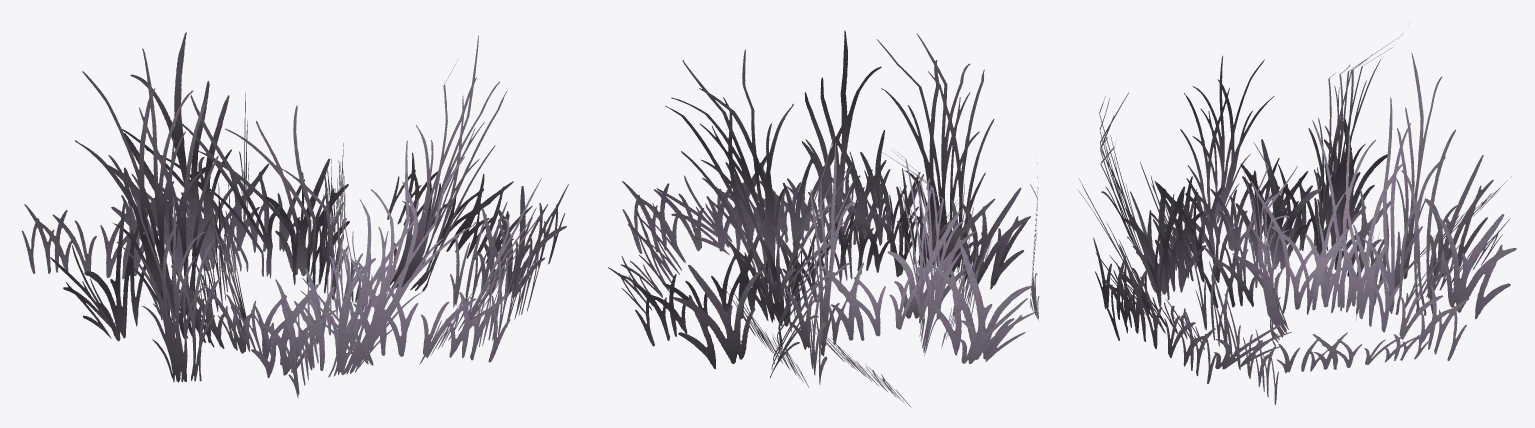
3 views of the same model, side by side, from view 1: azimuth 30°, elevation 25°; view 2: azimuth 150°, elevation 25°; view 3: azimuth 270°, elevation 25° (orthographic). The views are drawn at different scales.
Parts seen in each view (by area): view 1: SM_FH_GrassLong_01_NoDeform_LOD0; view 2: SM_FH_GrassLong_01_NoDeform_LOD0; view 3: SM_FH_GrassLong_01_NoDeform_LOD0.
Part boxes in pixels (x1,y1,x2,y2): SM_FH_GrassLong_01_NoDeform_LOD0: (21, 32, 568, 398); SM_FH_GrassLong_01_NoDeform_LOD0: (608, 30, 1039, 407); SM_FH_GrassLong_01_NoDeform_LOD0: (1077, 35, 1516, 404).
Size of the model in its own units: 1.13 by 0.6198 by 0.9578.
1 material, 1 textured.
